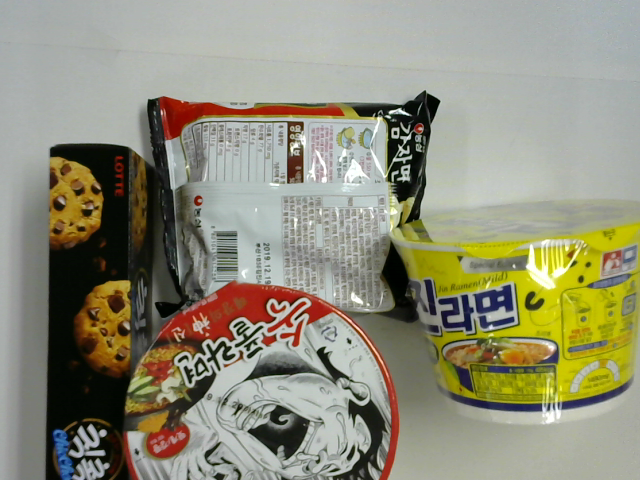Chicchok_Original_2400: (44, 143, 160, 480)
Hejangpul: (123, 283, 399, 480)
Jinlamyeon_Mild_Taste_Large_Cup: (385, 197, 640, 425)
Potato: (146, 91, 441, 323)
